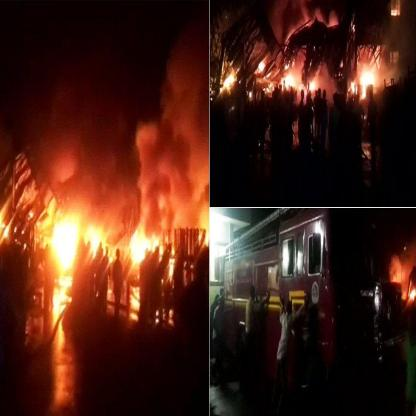fire: (47, 208, 80, 280), (127, 223, 160, 272), (391, 258, 416, 309), (349, 66, 379, 104), (84, 216, 103, 264), (0, 199, 14, 247), (52, 284, 72, 315), (219, 72, 238, 95), (274, 71, 298, 89), (130, 284, 144, 312), (197, 216, 209, 247), (168, 240, 175, 293), (256, 58, 267, 76), (306, 78, 316, 92)
